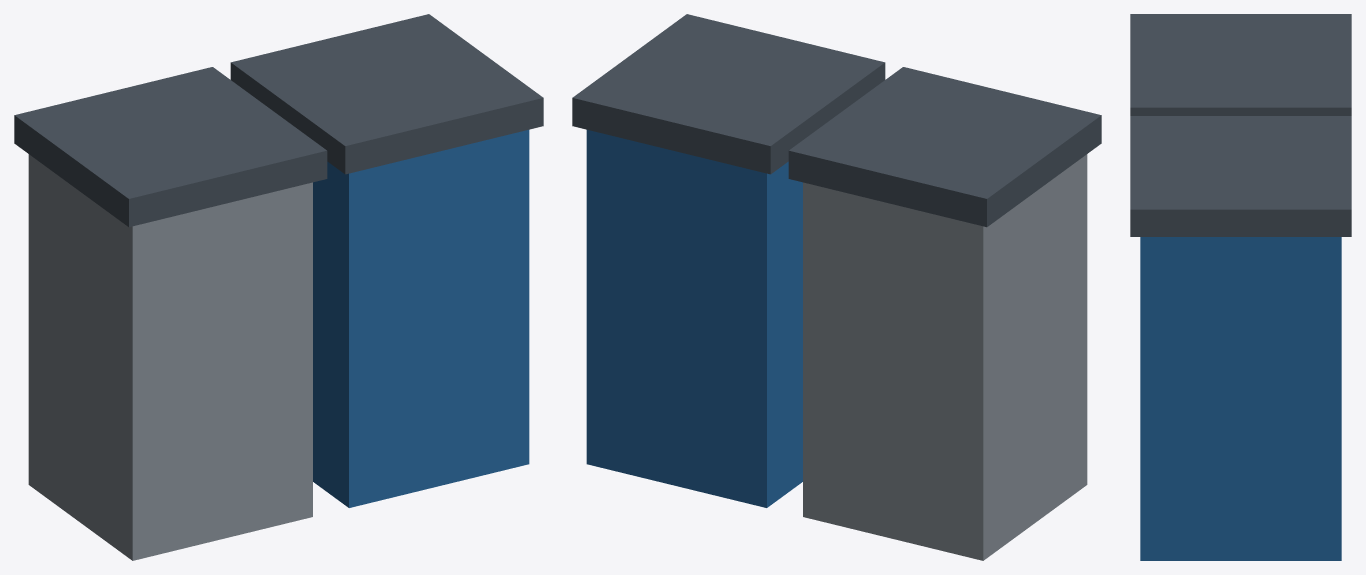
The model's file is prop_trash.glb.
3 views of the same model, side by side, from view 1: azimuth 30°, elevation 25°; view 2: azimuth 150°, elevation 25°; view 3: azimuth 270°, elevation 25° (orthographic). The views are drawn at different scales.
Visible parts, largest first — view 1: bin_a.001, bin_b.001, lid_a.001, lid_b.001; view 2: bin_a.001, bin_b.001, lid_a.001, lid_b.001; view 3: bin_b.001, lid_b.001, lid_a.001.
Boxes of the visible parts, <box> form: bin_a.001: <box>28,154,312,560</box>; bin_b.001: <box>313,129,529,507</box>; lid_a.001: <box>14,67,327,227</box>; lid_b.001: <box>230,14,543,174</box>; bin_a.001: <box>803,154,1087,560</box>; bin_b.001: <box>586,129,802,507</box>; lid_a.001: <box>788,67,1101,227</box>; lid_b.001: <box>572,14,885,174</box>; bin_b.001: <box>1140,237,1341,560</box>; lid_b.001: <box>1130,116,1351,236</box>; lid_a.001: <box>1130,14,1351,115</box>.
Size of the model in its own units: 0.92 by 0.78 by 0.44.
